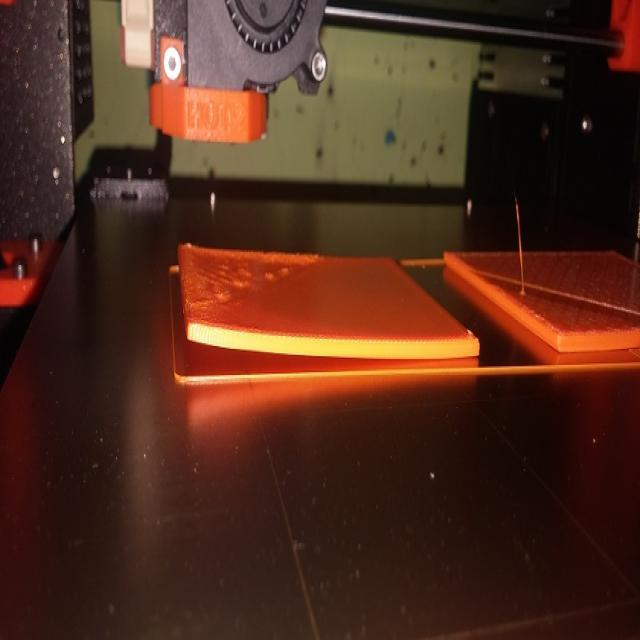Warping: (142, 305, 332, 421)
